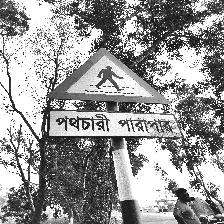Pedestrian-crossing: (46, 48, 179, 139)
